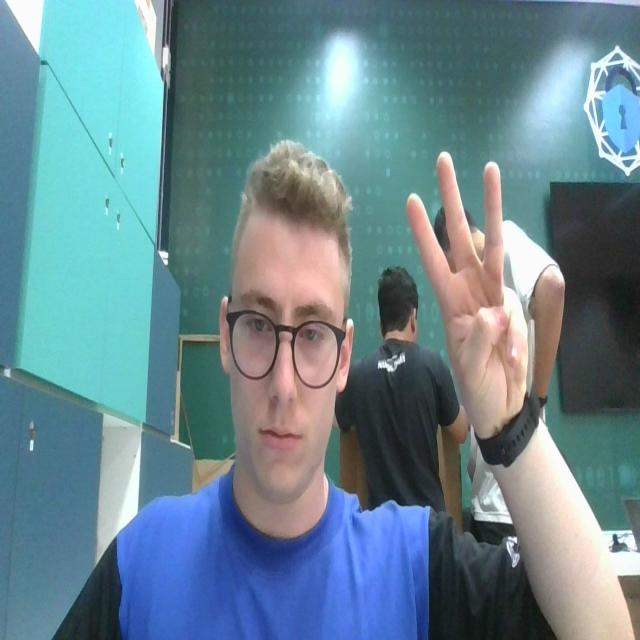W: (402, 146, 529, 420)
